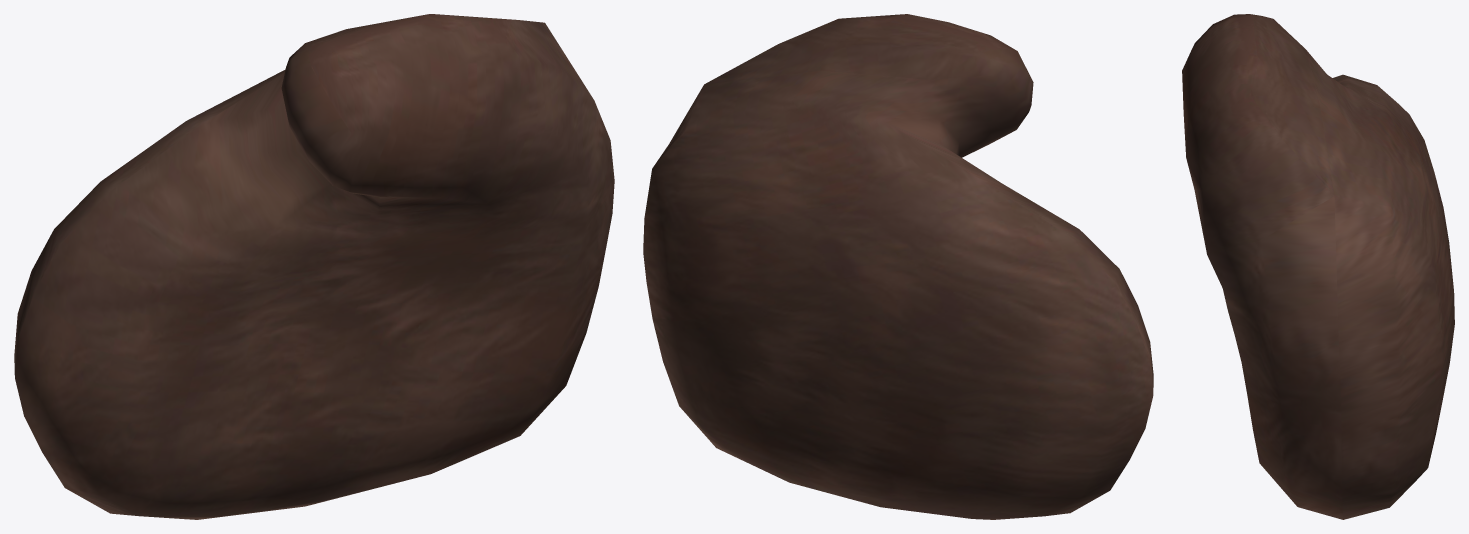
The model's file is avatar3-hand.obj.
The picture shows the model from 3 angles, left to right: view 1: azimuth 30°, elevation 25°; view 2: azimuth 150°, elevation 25°; view 3: azimuth 270°, elevation 25°; orthographic projection. The views are drawn at different scales.
Parts seen in each view (by area): view 1: hand; view 2: hand; view 3: hand.
Boxes of the visible parts, left/top/right/bottom form: hand: left=14, top=14, right=614, bottom=519; hand: left=643, top=14, right=1153, bottom=519; hand: left=1182, top=14, right=1454, bottom=519.
Size of the model in its own units: 0.2144 by 0.1835 by 0.1029.
Materials: 1 (1 with a texture image).
